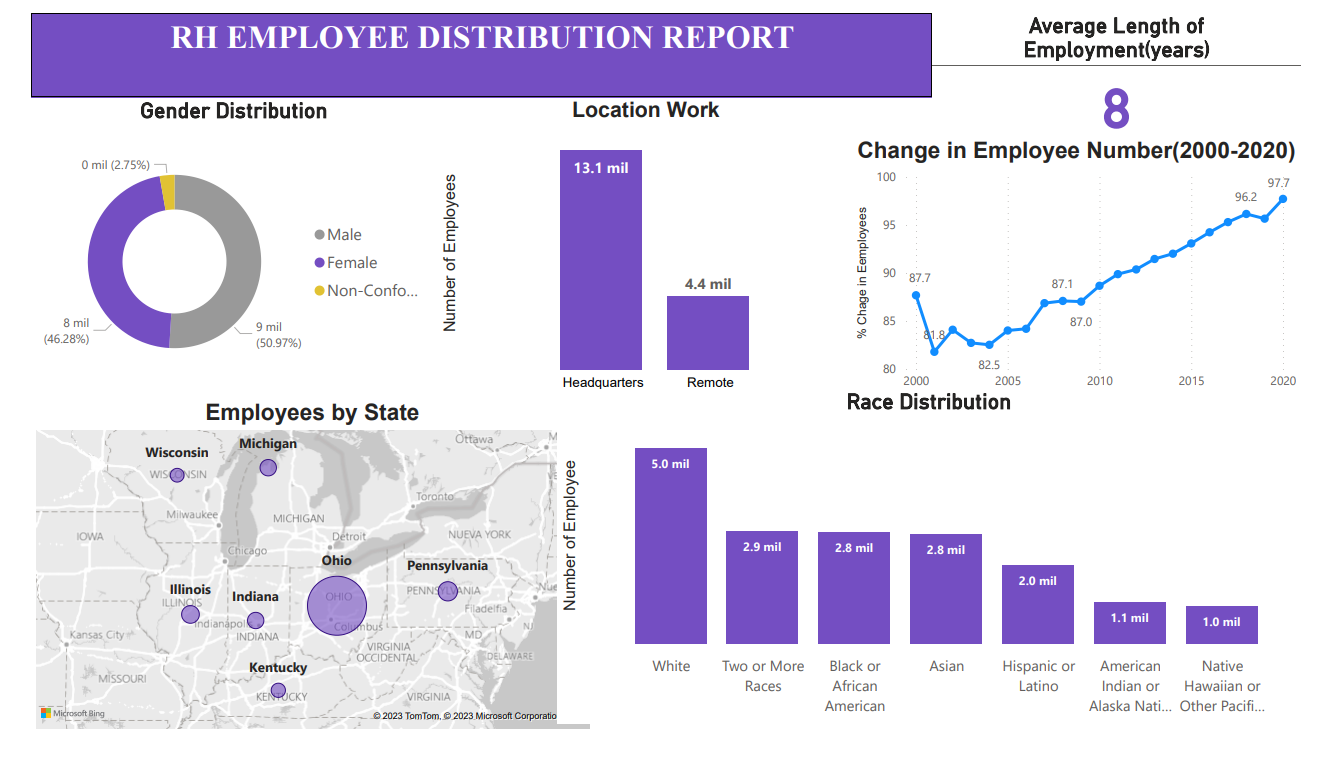

Layout of this report page (visuals, bound fields, positions):
{"tool":"powerbi","page":{"name":"Página 1","canvas":[1280,720],"ordinal":0},"visuals":[{"type":"textbox","box":[10,0,901.1,84.4],"z":0},{"type":"card","title":"Average Length of Employment(years)","fields":{"Values":["Sum(avg_length_employment.avg_length_employment)"]},"box":[911.2,0,368.8,123.8],"z":1000},{"type":"donutChart","title":"Gender Distribution","fields":{"Category":["gender.gender"],"Y":["Sum(gender.count)"]},"box":[10,85,406.2,301.2],"z":2000},{"type":"columnChart","title":"Location Work","fields":{"Y":["Sum(location.count(*))"],"Category":["location.location"]},"box":[416.2,85,417.5,301.2],"z":3000},{"type":"lineChart","title":"Change in Employee Number(2000-2020)","fields":{"Category":["employee_change.year"],"Y2":["Sum(employee_change.net_change_percent)"]},"box":[816.2,123.8,463.8,262.5],"z":3001},{"type":"map","title":"Employees by State","fields":{"Size":["Sum(state_location.count)"],"Category":["state_location.location_state"]},"box":[10,386.2,562.5,333.8],"z":3002},{"type":"clusteredColumnChart","title":"Race Distribution","fields":{"Category":["race.race"],"Y":["Sum(race.count)"]},"box":[536,376,744,334],"z":3003}]}

Visuals, with their boxes in screenshot pixels (x1, y1, x2, y2), scaled from the page's 1280x720 canvas onto the 1325x757 screenshot:
textbox: {"left": 10, "top": 0, "right": 943, "bottom": 89}
"Average Length of Employment(years)" card: {"left": 943, "top": 0, "right": 1324, "bottom": 130}
"Gender Distribution" donutChart: {"left": 10, "top": 89, "right": 431, "bottom": 406}
"Location Work" columnChart: {"left": 431, "top": 89, "right": 863, "bottom": 406}
"Change in Employee Number(2000-2020)" lineChart: {"left": 845, "top": 130, "right": 1324, "bottom": 406}
"Employees by State" map: {"left": 10, "top": 406, "right": 593, "bottom": 756}
"Race Distribution" clusteredColumnChart: {"left": 555, "top": 395, "right": 1324, "bottom": 746}
